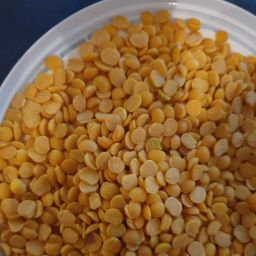Pigeon Pea(toor daal): (14, 24, 256, 256)
